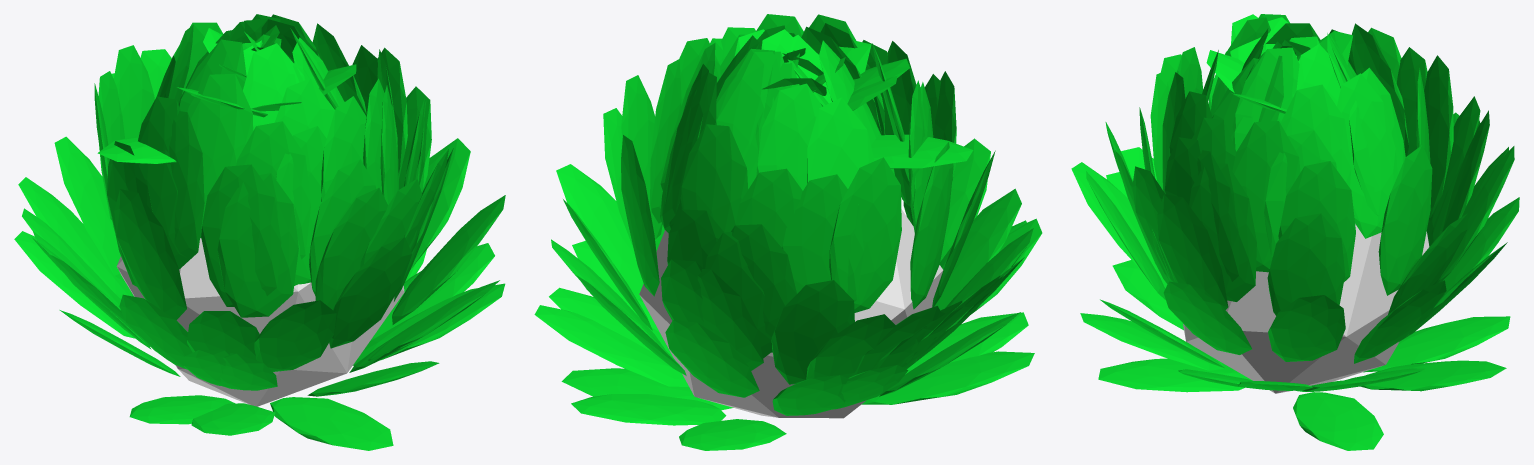
The model's file is shrubRound.fbx.
3 renders of one model, left to right at view 1: azimuth 30°, elevation 25°; view 2: azimuth 150°, elevation 25°; view 3: azimuth 270°, elevation 25°, orthographic. The views are drawn at different scales.
Parts seen in each view (by area): view 1: tufts, Sphere; view 2: tufts, Sphere; view 3: tufts, Sphere.
Part boxes in pixels (x1,y1,x2,y2): tufts: (14, 14, 505, 450); Sphere: (116, 238, 404, 406); tufts: (534, 14, 1042, 450); Sphere: (639, 209, 943, 418); tufts: (1071, 14, 1519, 450); Sphere: (1183, 224, 1429, 393).
Bounding box in the file's own units: 47.98 × 38.23 × 45.1.
